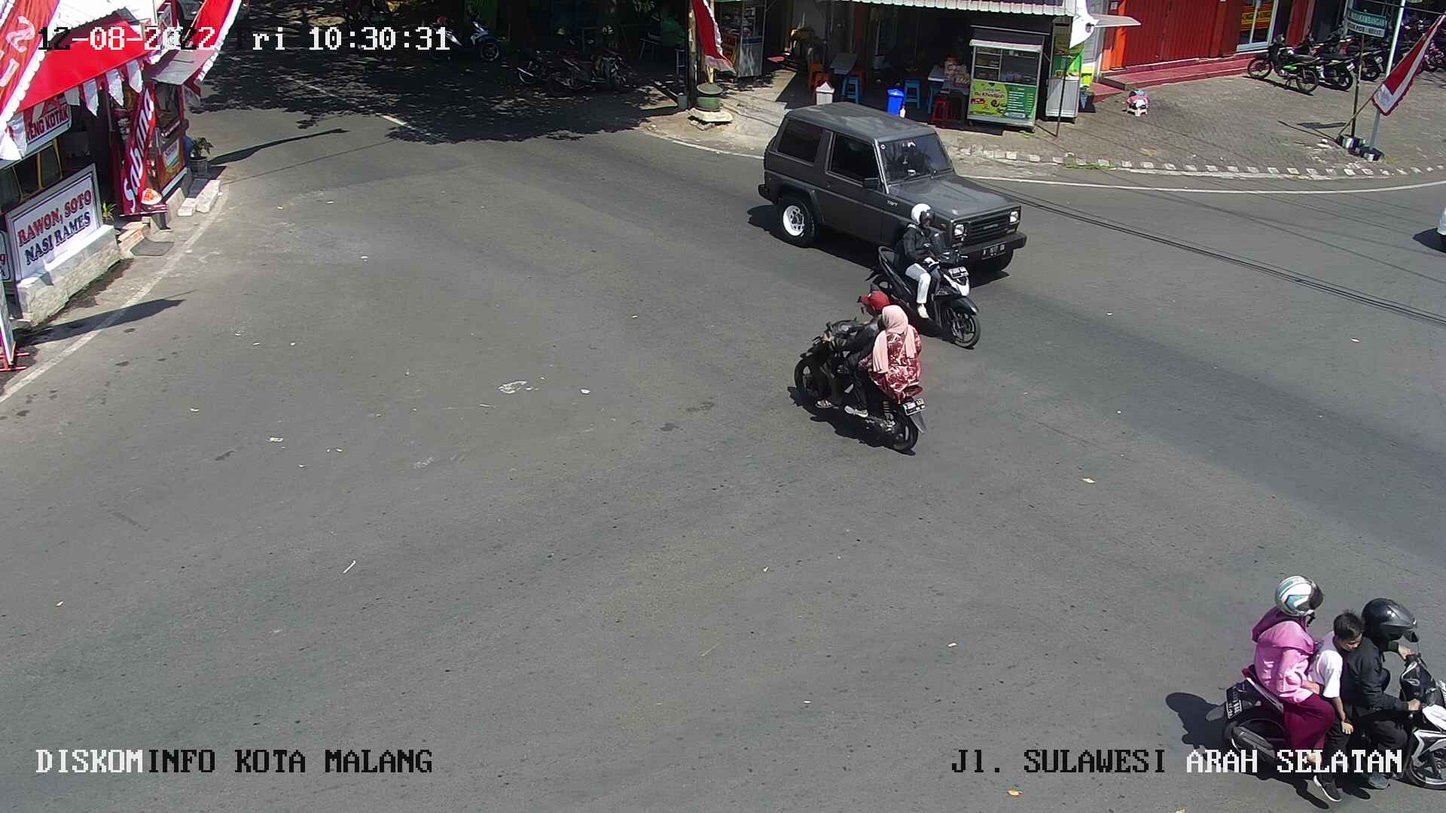with_helmet: (1217, 546, 1444, 813), (861, 155, 993, 358)
without_helmet: (784, 283, 942, 457)
